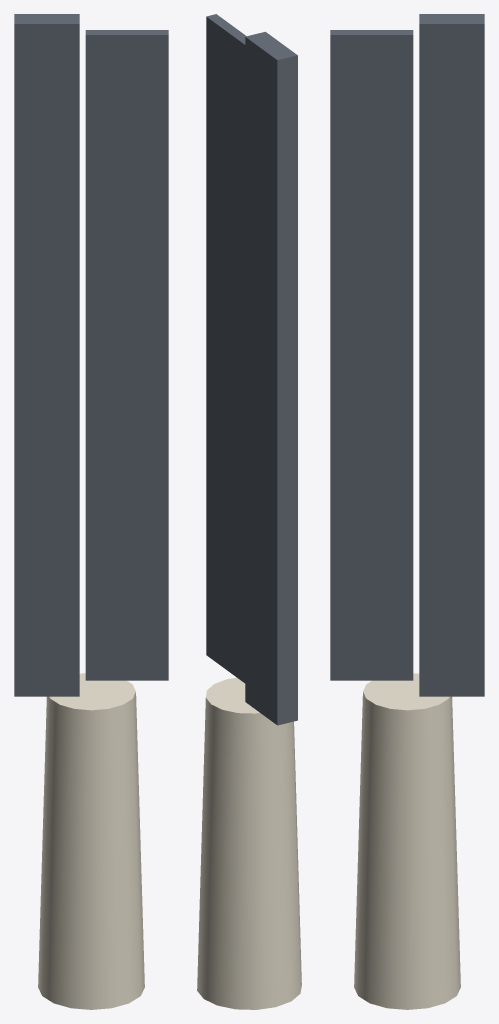
Rendered from weapon_bone_saw.glb.
3 views of the same model, side by side, from view 1: azimuth 90°, elevation 25°; view 2: azimuth 210°, elevation 25°; view 3: azimuth 270°, elevation 25° (orthographic).
Parts seen in each view (by area): view 1: Serrated_Blade, Saw_Frame_Spine, Handle_Grip_Ivory; view 2: Saw_Frame_Spine, Handle_Grip_Ivory, Serrated_Blade; view 3: Serrated_Blade, Saw_Frame_Spine, Handle_Grip_Ivory.
Part boxes in pixels (box(x1,y1,x2,y2)): Serrated_Blade: box(85, 30, 168, 680); Saw_Frame_Spine: box(14, 14, 79, 696); Handle_Grip_Ivory: box(38, 673, 144, 1009); Saw_Frame_Spine: box(245, 31, 297, 725); Handle_Grip_Ivory: box(197, 677, 301, 1009); Serrated_Blade: box(206, 14, 246, 683); Serrated_Blade: box(330, 30, 413, 680); Saw_Frame_Spine: box(419, 14, 484, 696); Handle_Grip_Ivory: box(354, 673, 460, 1009).
Size of the model in its own units: 0.036 by 0.36 by 0.052.
